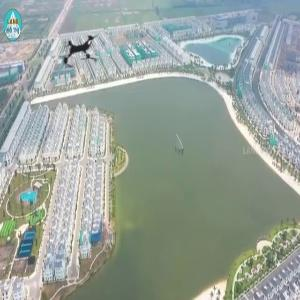drone: (48, 18, 117, 87)
